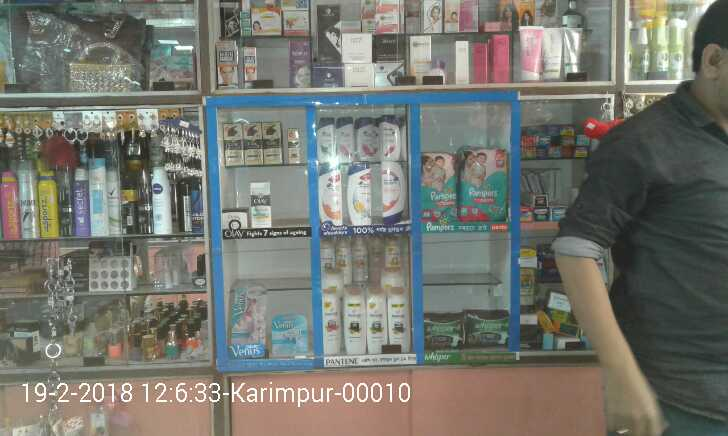venus: (235, 286, 265, 356), (272, 314, 308, 356)
